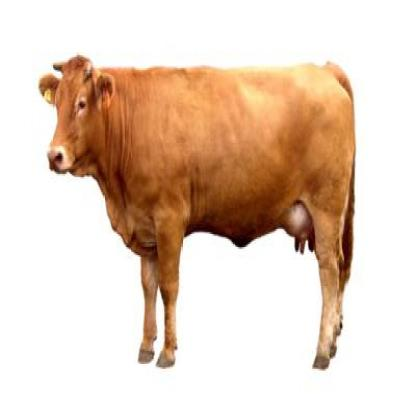mouth: (46, 146, 72, 175)
upper: (52, 161, 58, 168)
